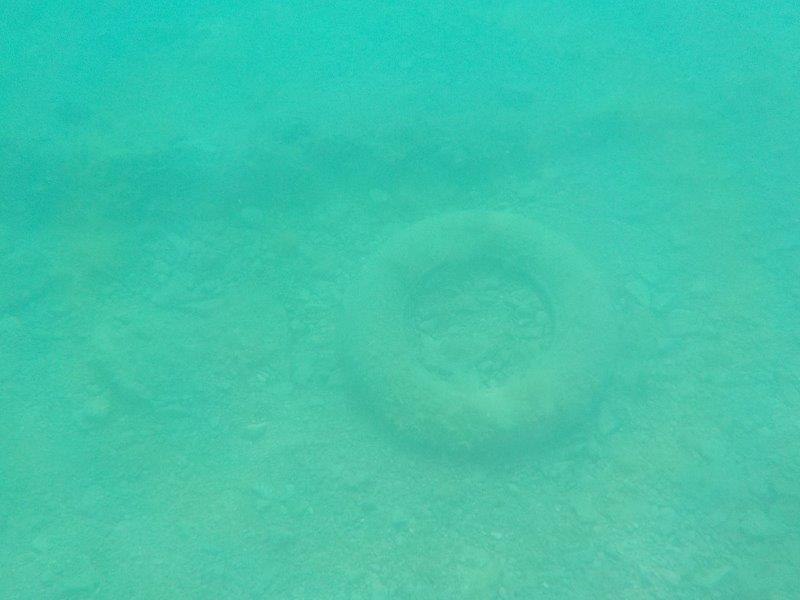tire: (335, 206, 622, 460)
